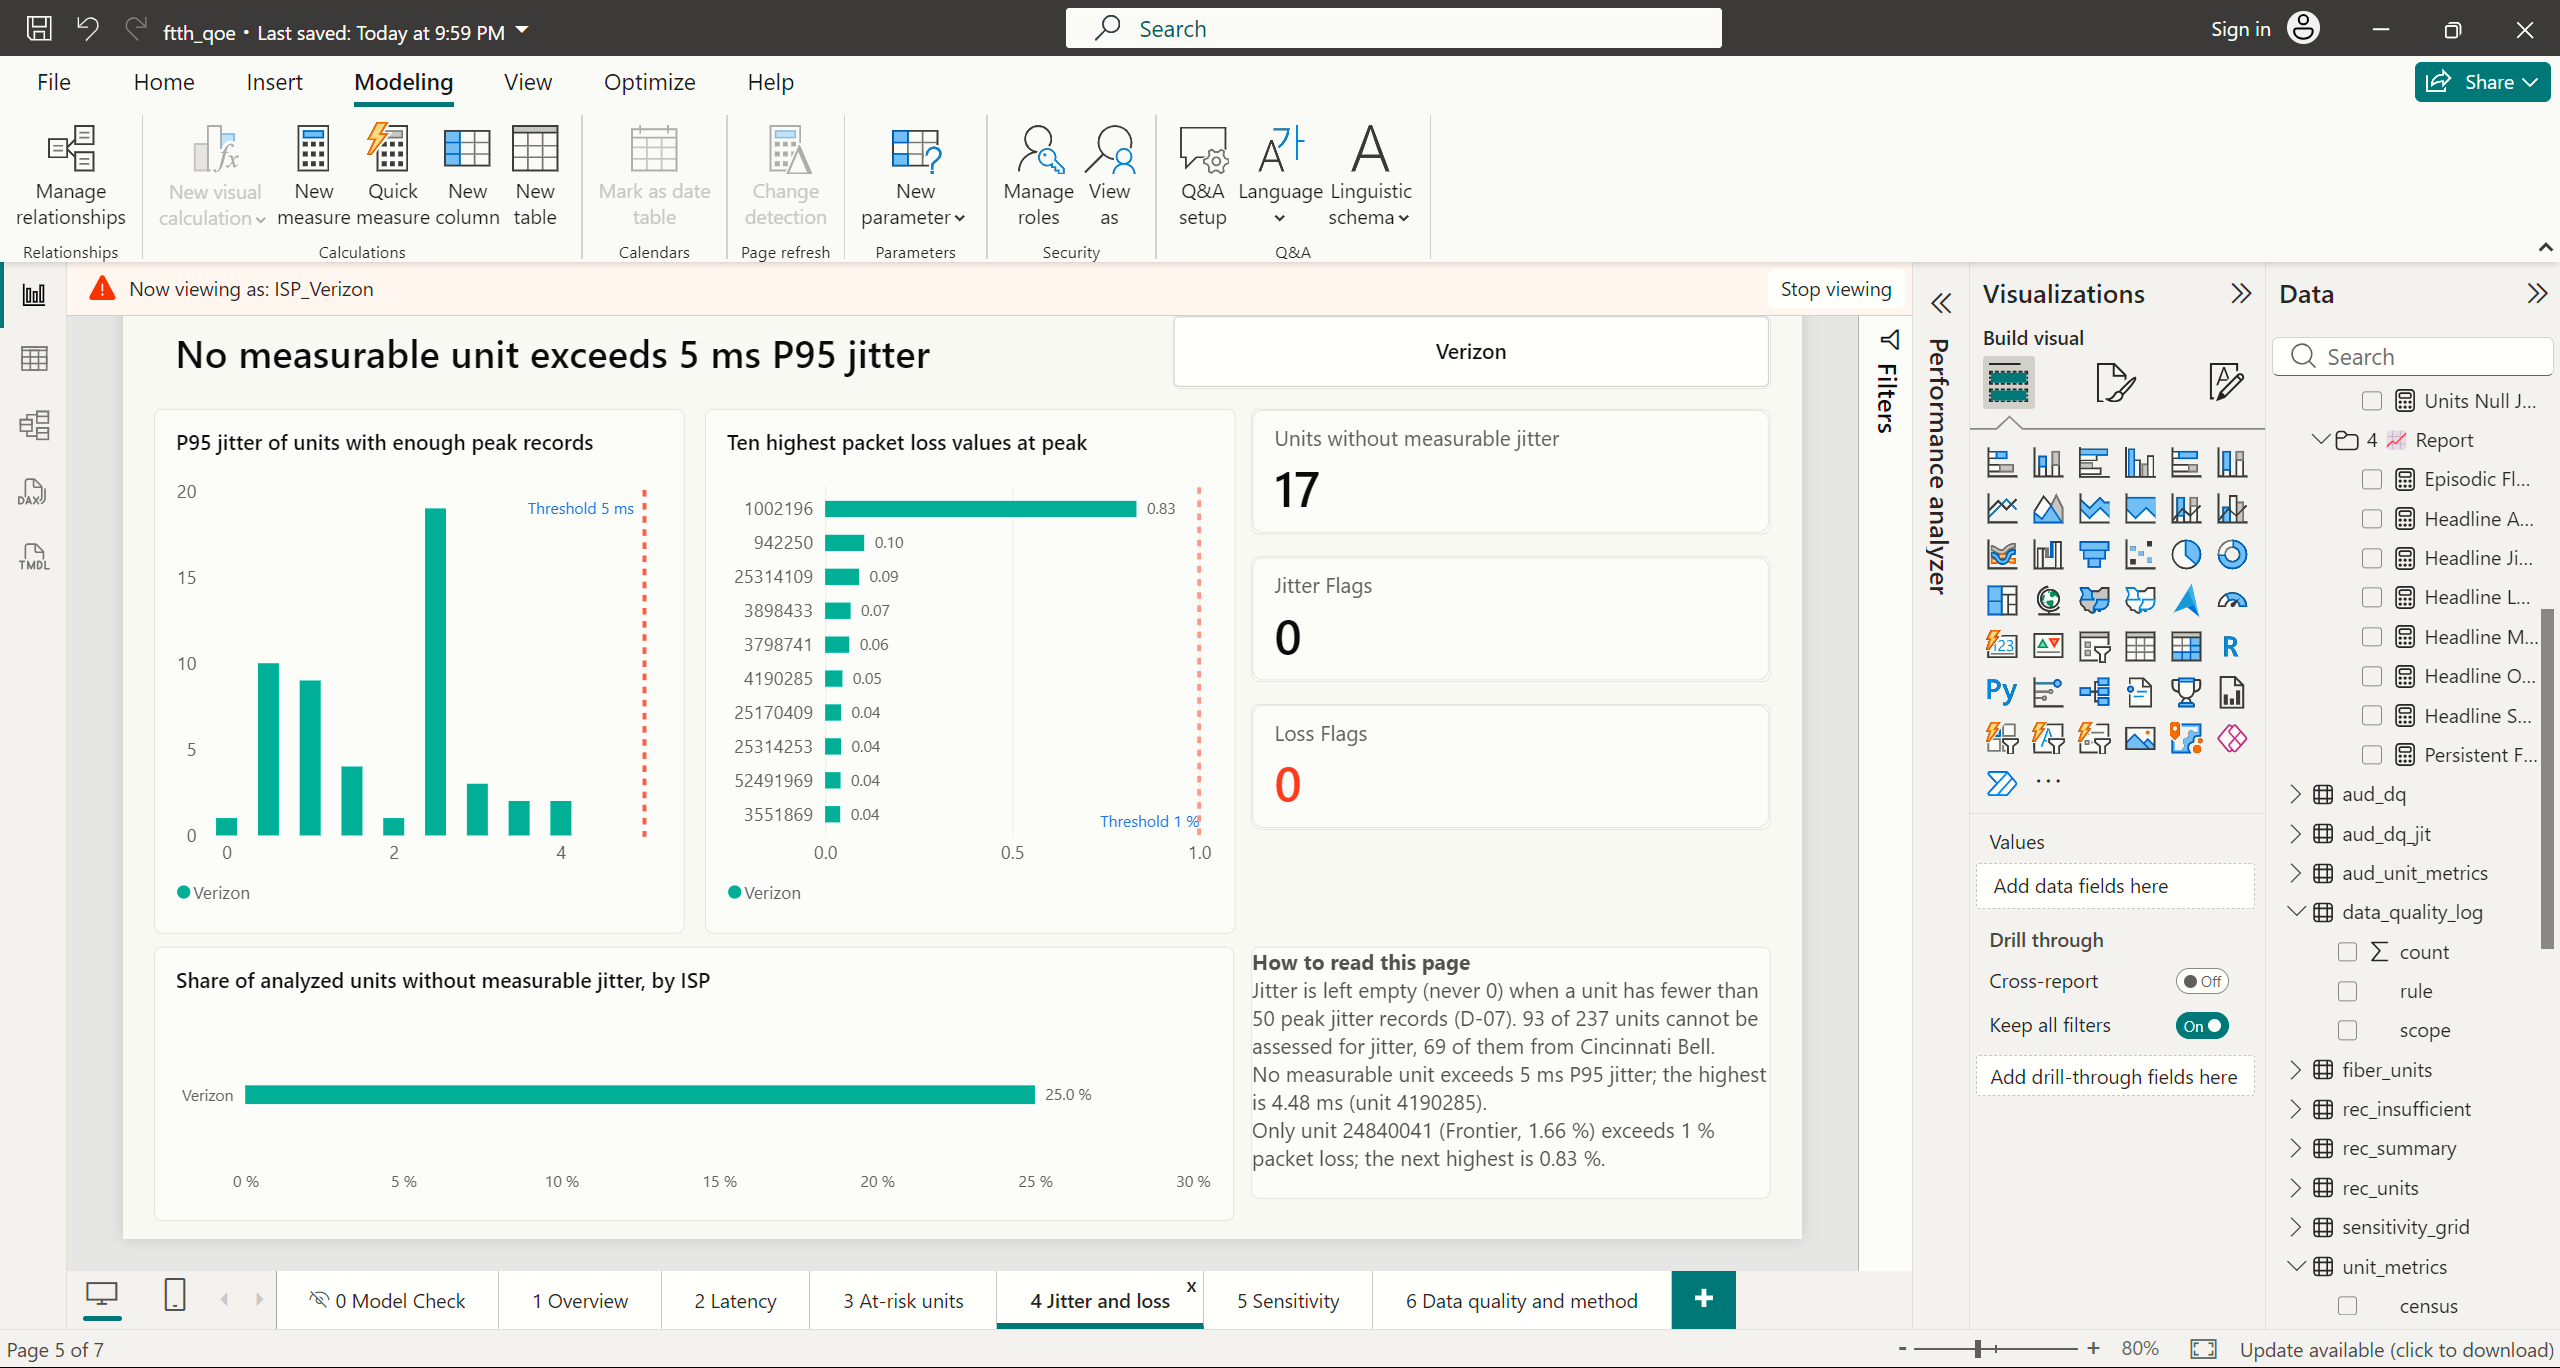

This screenshot's page, from the dashboard's own definition file:
{"tool":"powerbi","page":{"name":"4 Jitter and loss","canvas":[1280,720],"ordinal":4},"visuals":[{"type":"cardVisual","fields":{"Data":["_Measures.Headline Jitter"]},"box":[24,16,760,56],"z":0},{"type":"advancedSlicerVisual","fields":{"Values":["unit_metrics.isp"]},"box":[800,16,456,56],"z":1},{"type":"clusteredBarChart","title":"Ten highest packet loss values at peak","fields":{"Category":["unit_metrics.unit_id"],"Series":["unit_metrics.isp"],"Y":["Max(unit_metrics.loss_pct)"]},"box":[444,88,404,400],"z":2},{"type":"columnChart","title":"P95 jitter of units with enough peak records","fields":{"Category":["unit_metrics.p95_jitter_ms (bins)"],"Series":["unit_metrics.isp"],"Y":["_Measures.Analyzed Units"]},"box":[24,88,404,400],"z":3},{"type":"clusteredBarChart","title":"Share of analyzed units without measurable jitter, by ISP","fields":{"Category":["unit_metrics.isp"],"Series":["unit_metrics.isp"],"Y":["_Measures.% Null Jitter"]},"box":[24.4,498,823.2,209.4],"z":4},{"type":"cardVisual","fields":{"Data":["_Measures.Units Null Jitter"]},"box":[860,88,396,96],"z":5},{"type":"cardVisual","fields":{"Data":["_Measures.Jitter Flags"]},"box":[860,200,396,96],"z":6},{"type":"cardVisual","fields":{"Data":["_Measures.Loss Flags"]},"box":[860,312,396,96],"z":7},{"type":"textbox","box":[860,498,396,192],"z":8}]}

Visuals, with their boxes on the page's 1280x720 design canvas (x1, y1, x2, y2). These are canvas units, not pixel positions in the 2560x1368 screenshot, which may show the page scaled, cropped or inside an application window:
cardVisual - _Measures.Headline Jitter: 24:16:784:72
advancedSlicerVisual - unit_metrics.isp: 800:16:1256:72
"Ten highest packet loss values at peak" clusteredBarChart: 444:88:848:488
"P95 jitter of units with enough peak records" columnChart: 24:88:428:488
"Share of analyzed units without measurable jitter, by ISP" clusteredBarChart: 24:498:848:707
cardVisual - _Measures.Units Null Jitter: 860:88:1256:184
cardVisual - _Measures.Jitter Flags: 860:200:1256:296
cardVisual - _Measures.Loss Flags: 860:312:1256:408
textbox: 860:498:1256:690
